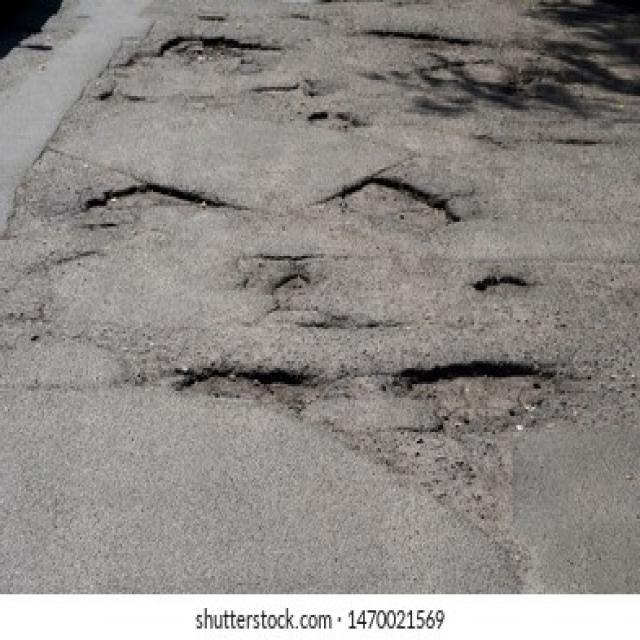Pothole: (96, 32, 282, 105), (396, 356, 558, 423), (178, 363, 326, 416), (342, 176, 461, 231), (86, 180, 228, 215), (270, 272, 311, 304), (474, 274, 528, 297), (306, 110, 367, 130), (251, 85, 301, 96)
